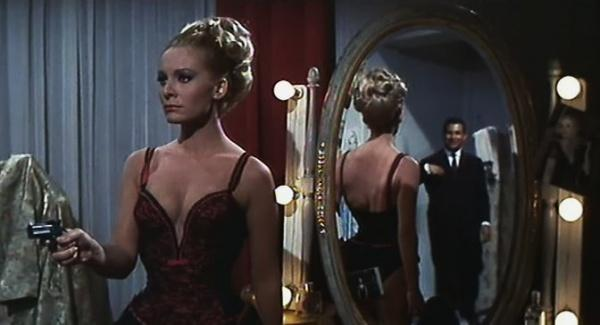Gun: (25, 220, 79, 261)
